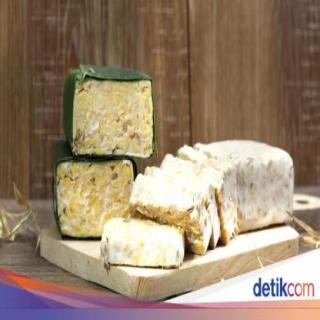Tempe: (81, 138, 296, 271), (69, 74, 159, 161)
